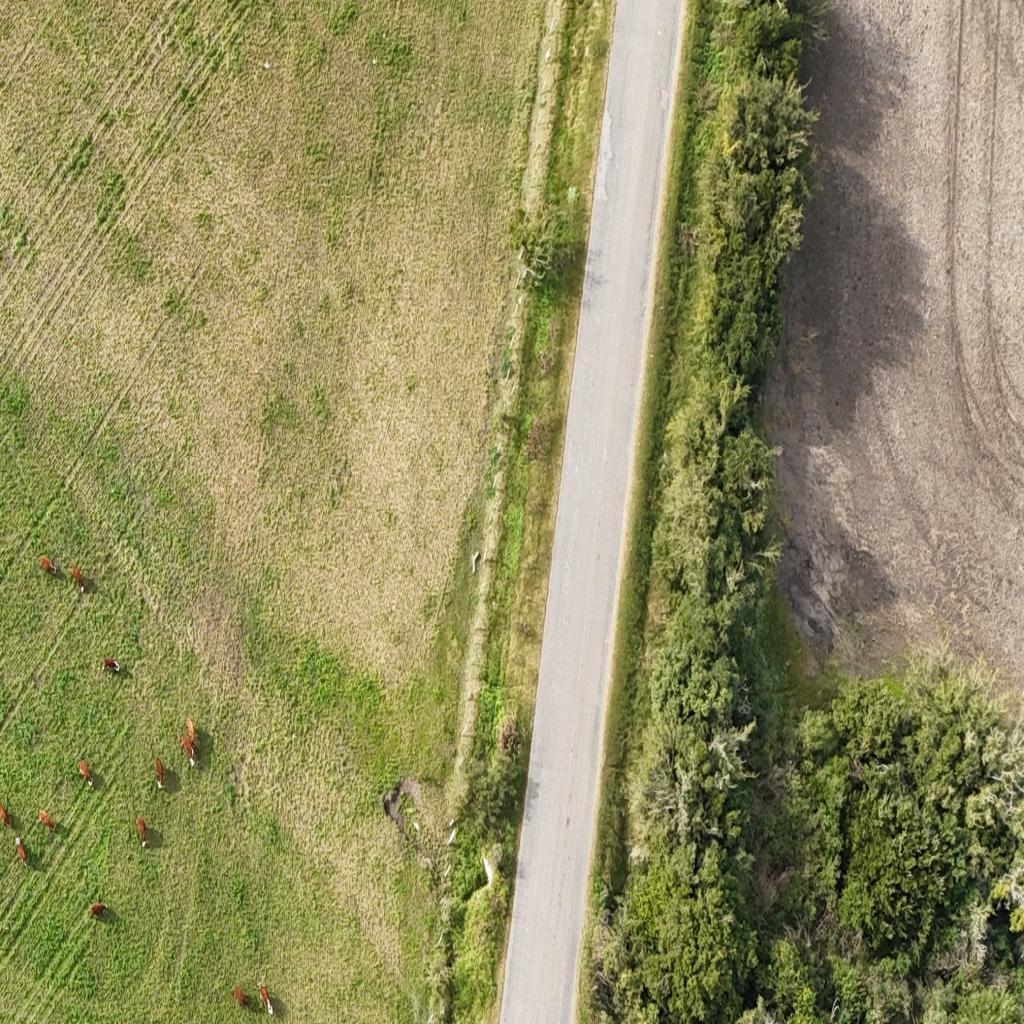cow: (186, 714, 204, 746), (180, 738, 195, 770), (78, 759, 93, 789), (259, 984, 273, 1016), (71, 564, 85, 595), (39, 810, 56, 834), (233, 985, 249, 1010), (15, 838, 28, 866), (136, 816, 147, 847), (0, 800, 12, 828), (102, 657, 120, 675), (40, 555, 56, 575), (154, 757, 164, 787), (89, 903, 107, 919)
